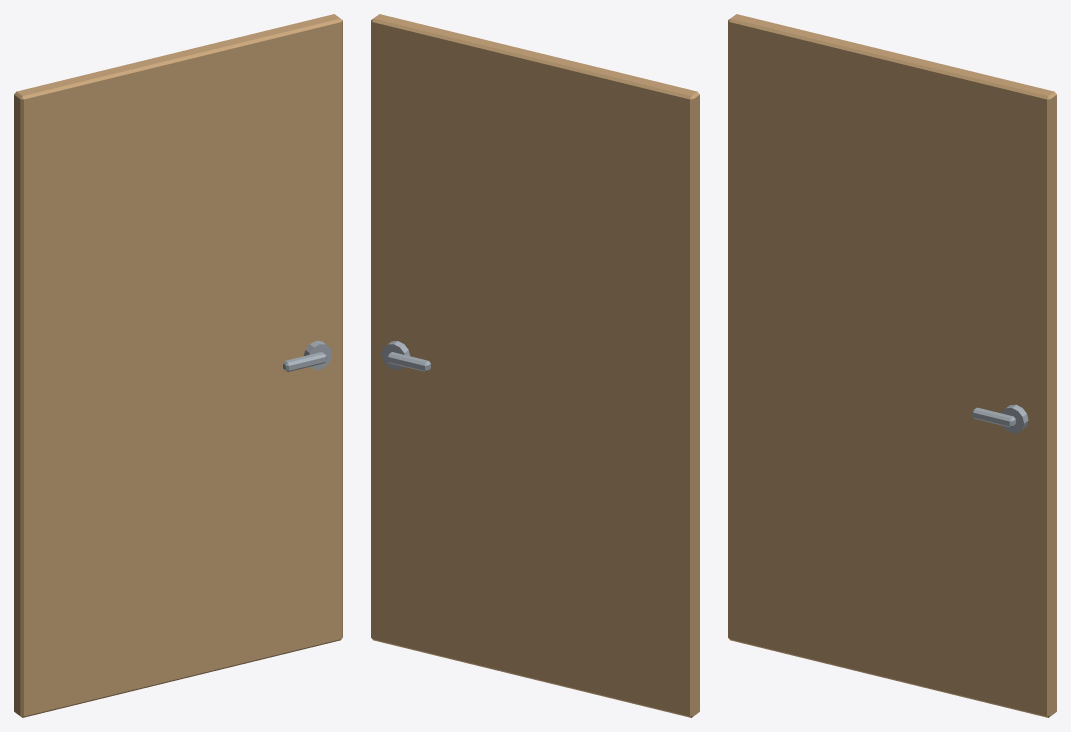
The model's file is Door_Leaf_Plain.fbx.
3 views of the same model, side by side, from view 1: azimuth 30°, elevation 25°; view 2: azimuth 150°, elevation 25°; view 3: azimuth 330°, elevation 25° (orthographic).
Parts seen in each view (by area): view 1: Door_Leaf_Plain; view 2: Door_Leaf_Plain; view 3: Door_Leaf_Plain.
Boxes of the visible parts, x1,y1,x2,y2 form: Door_Leaf_Plain: (14, 14, 342, 717); Door_Leaf_Plain: (371, 14, 699, 717); Door_Leaf_Plain: (728, 14, 1056, 717).
Size of the model in its own units: 252 by 464 by 40.6.
